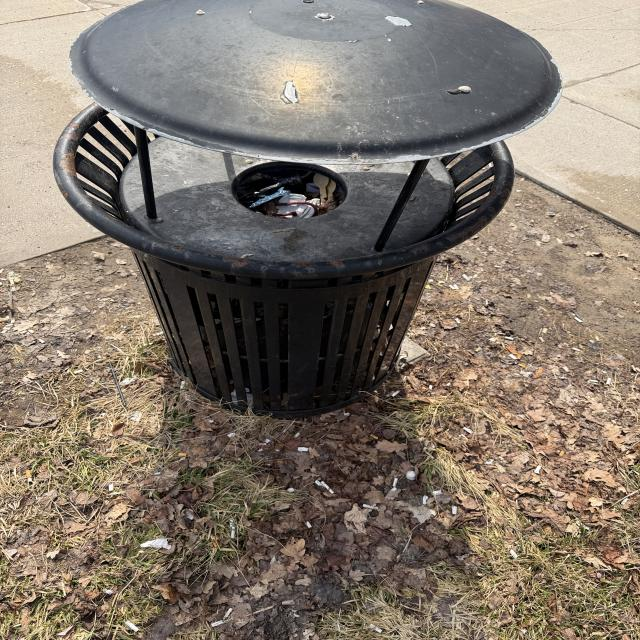Dustbin: (54, 1, 562, 416)
